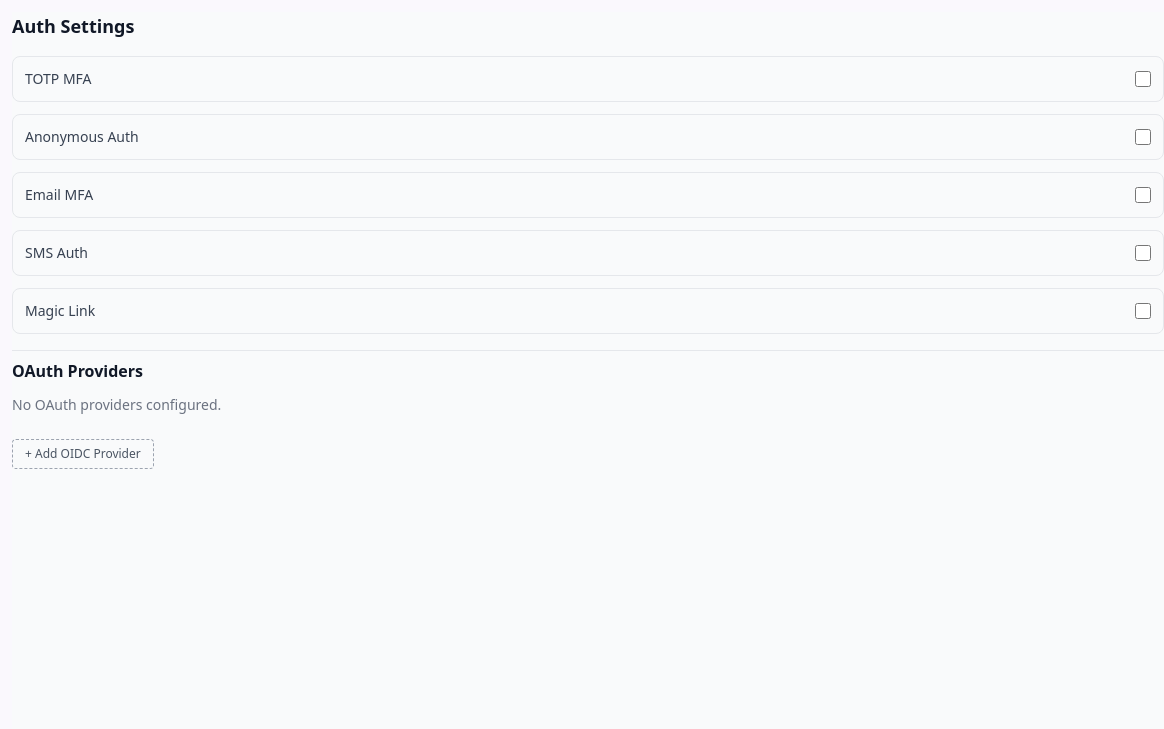
AuthSettings › validates OIDC provider name is not empty
The image size is (1164, 729).
Step 1. Click the button with test id "add-oidc-provider" → click(83, 454), box [12,439,154,469]
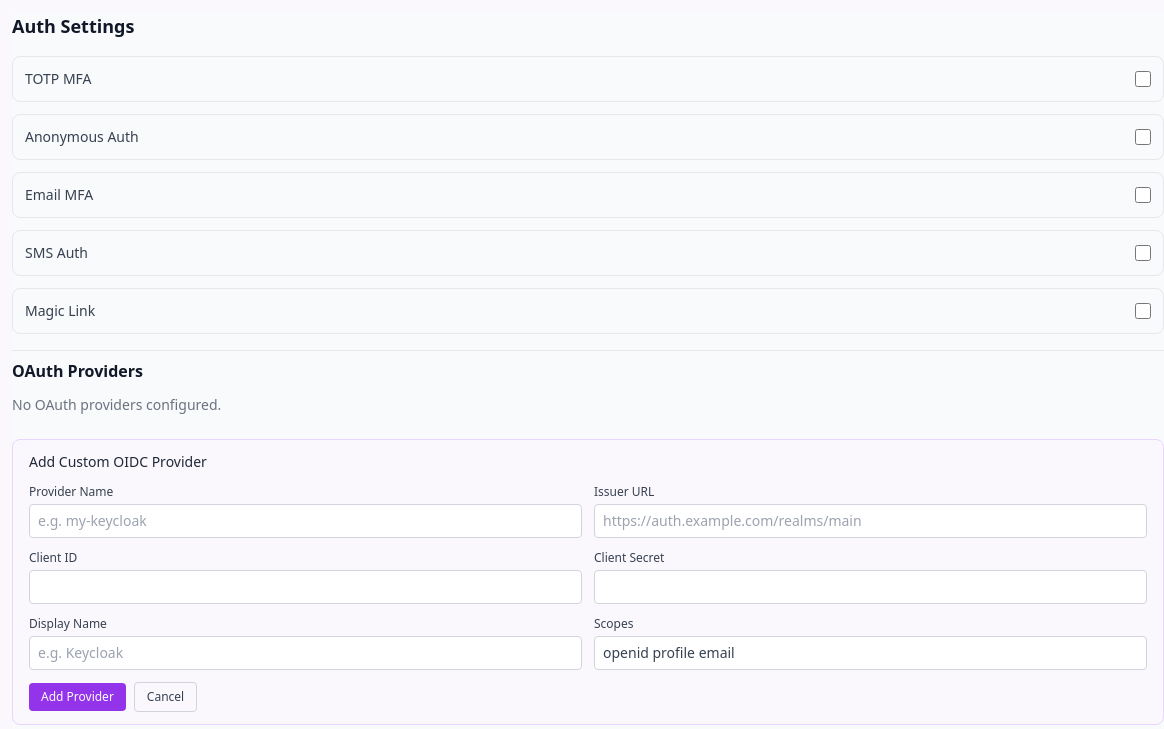
Step 2. Type "https://auth.example.com" into the field with test id "oidc-form-issuer-url" → (870, 521), box [594,504,1147,538]
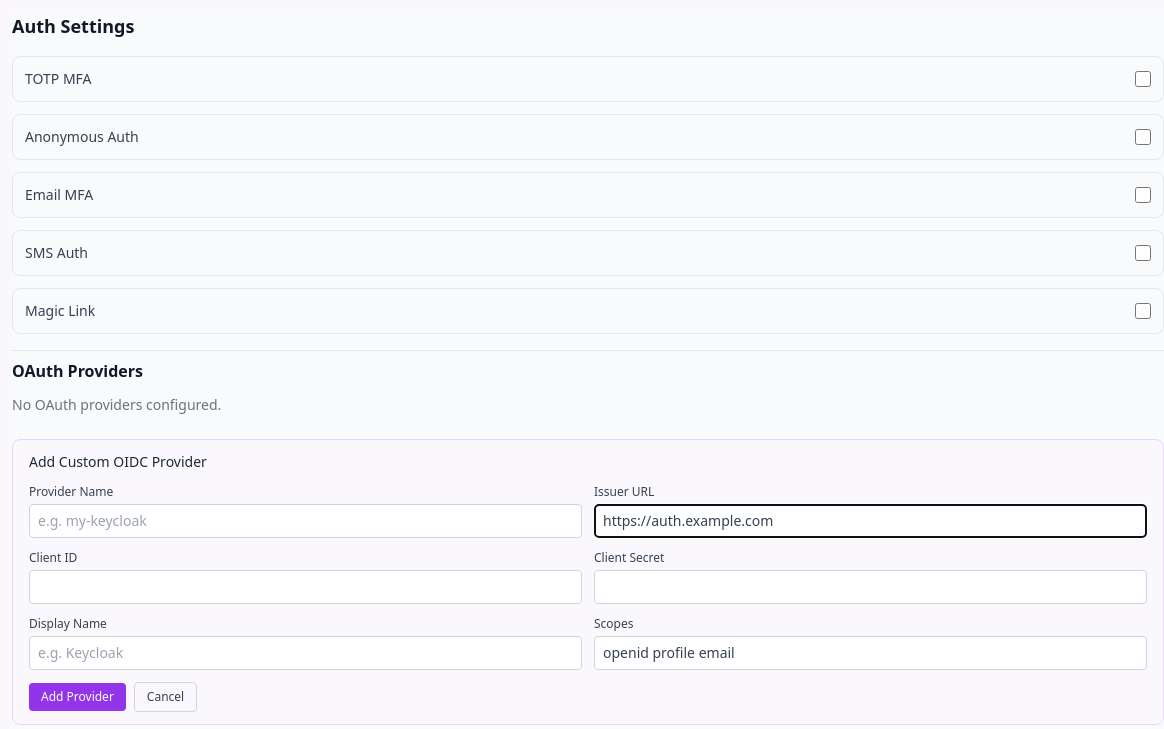
Step 3. Click the button with test id "oidc-form-save" → click(77, 697), box [29,683,126,711]
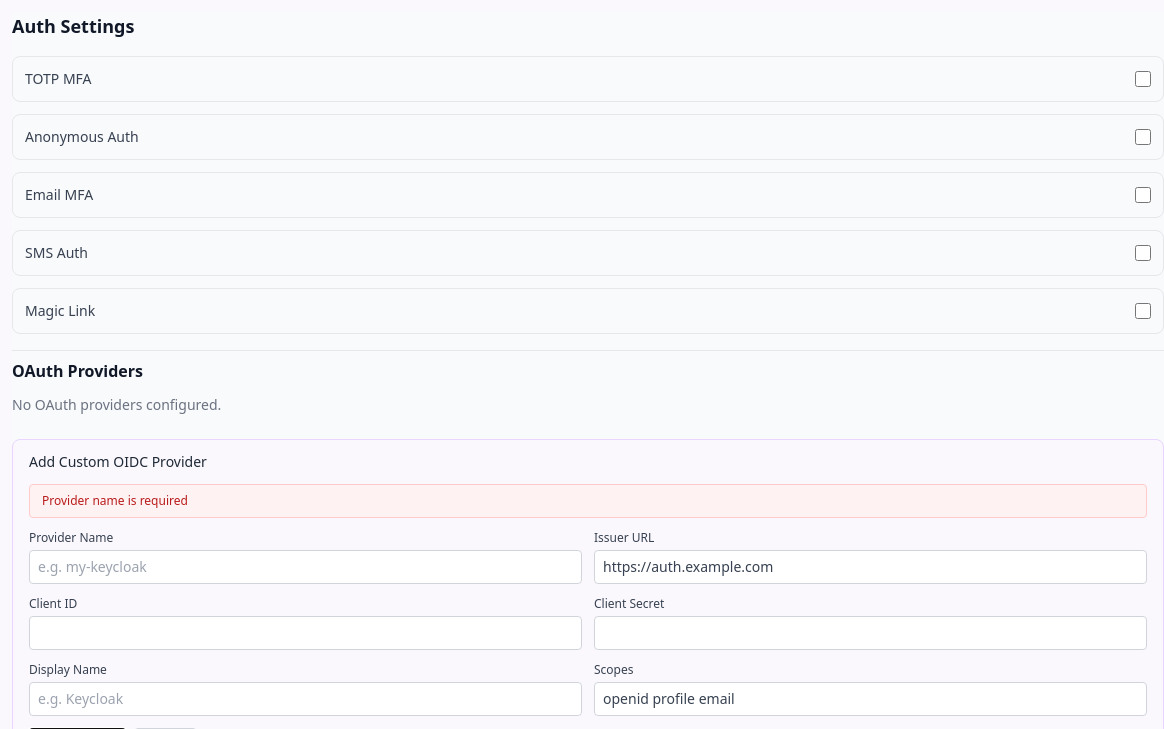
Result: the text "Provider name is required" is shown at [29,484,1147,518]
